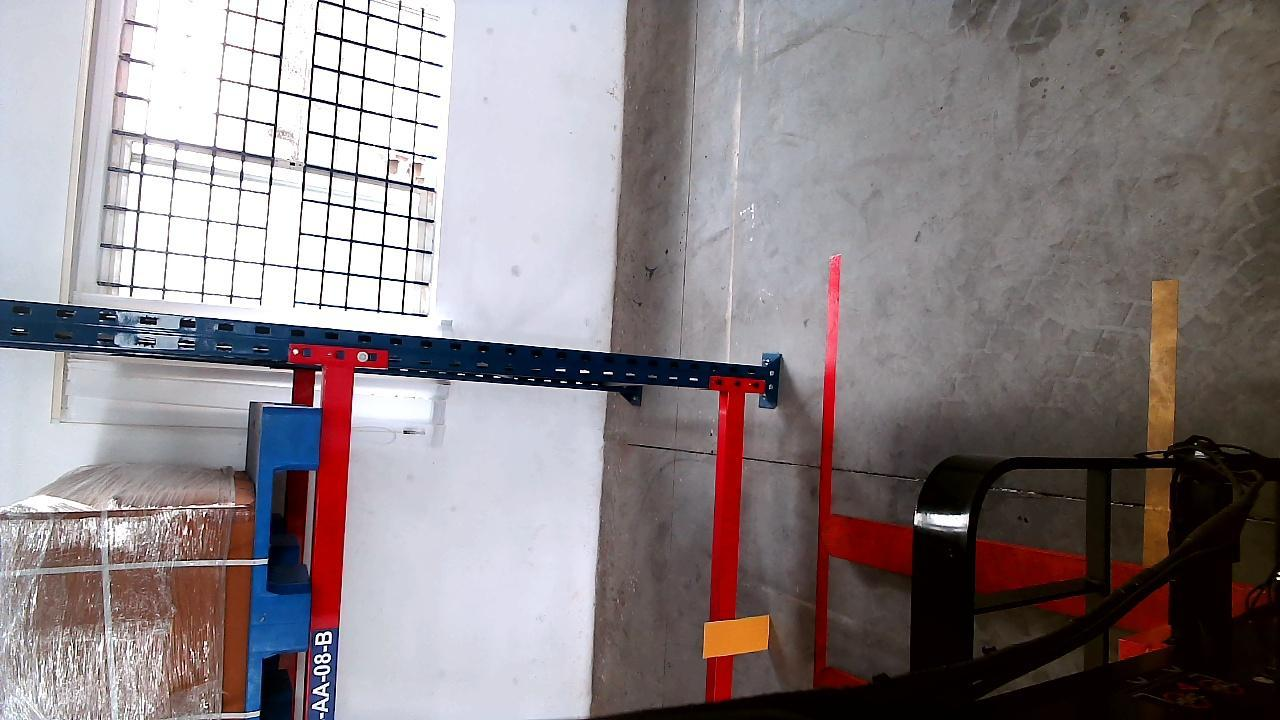red_line: (818, 251, 840, 672)
yellow_line: (1144, 280, 1178, 570)
